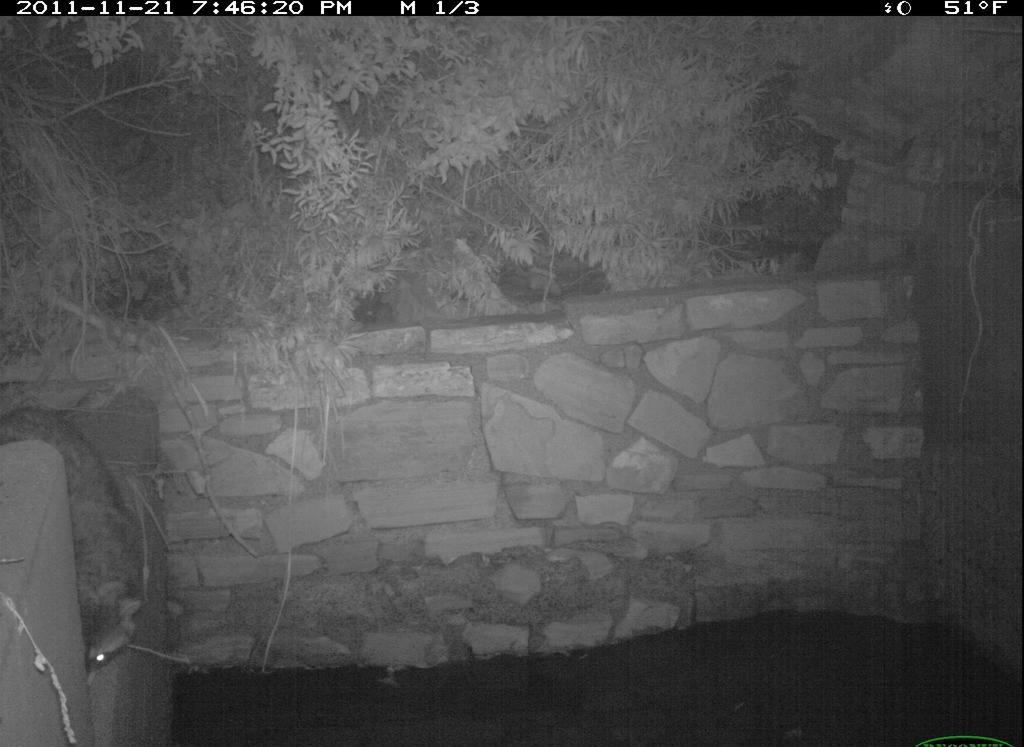raccoon: (4, 387, 166, 688)
